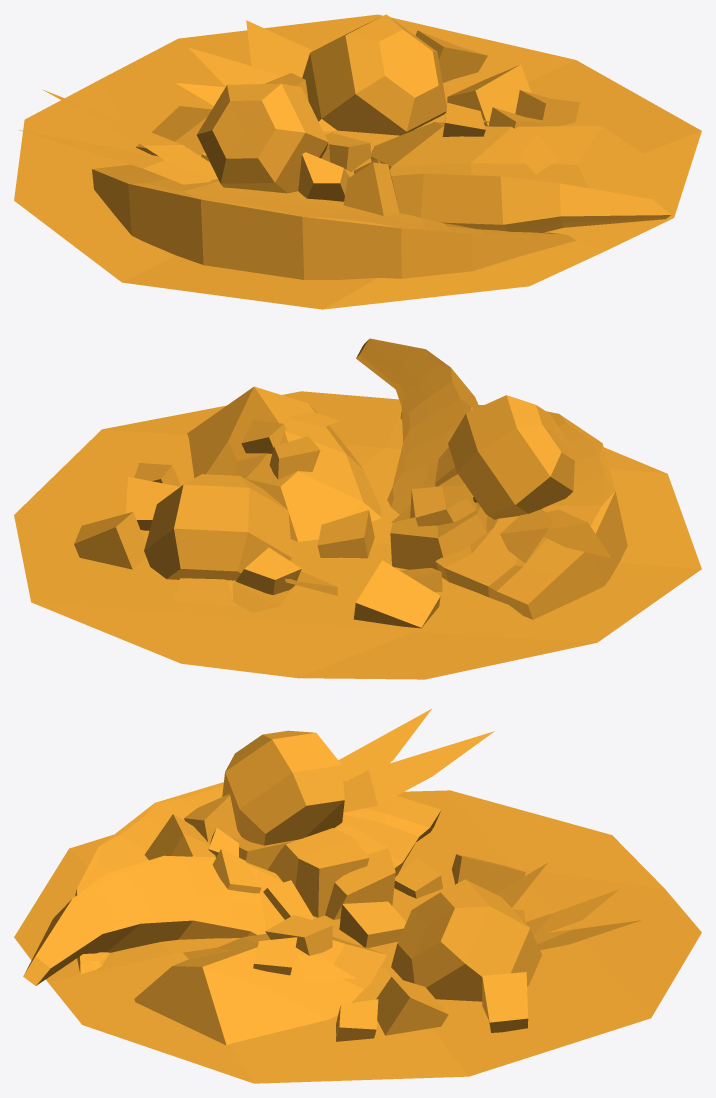
Rendered from SM_Soup_Monster.fbx.
3 renders of one model, top to bottom at view 1: azimuth 30°, elevation 25°; view 2: azimuth 150°, elevation 25°; view 3: azimuth 270°, elevation 25°, orthographic.
Parts seen in each view (by area): view 1: soup-monster; view 2: soup-monster; view 3: soup-monster.
Boxes of the visible parts, x1,y1,x2,y2 form: soup-monster: (14, 14, 701, 309); soup-monster: (14, 338, 701, 679); soup-monster: (14, 709, 701, 1083).
Bounding box in the file's own units: 0.2425 × 0.0713 × 0.2407.
